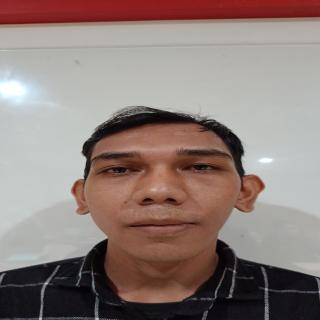Netral: (84, 124, 247, 268)
